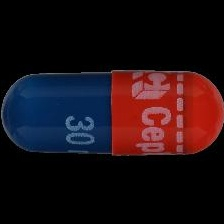16590-810: (0, 0, 224, 224)
